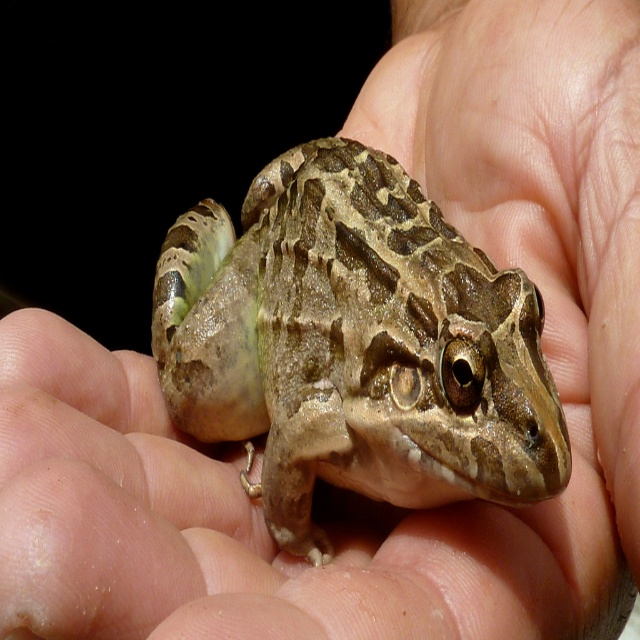Frog: (151, 139, 572, 567)
